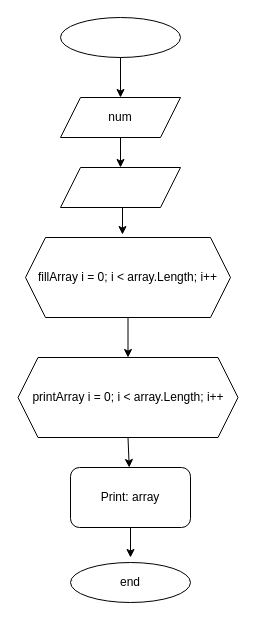
The diagram is 255 pixels wide and 620 high, and some of its shapes have lost their labels. The box of each missing label's shape, as (x1, y1, x2, y2) in pixels:
array: (60, 166, 180, 208)
start: (60, 16, 180, 58)
